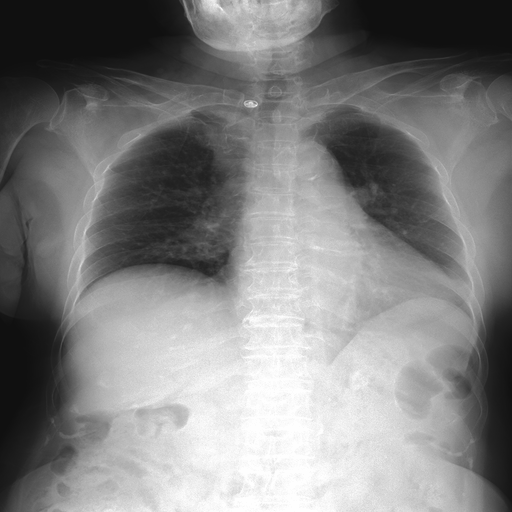Consolidation: (276, 140, 348, 184)
Nodule/Mass: (220, 257, 449, 297)
Pleural thickening: (202, 108, 248, 175)
